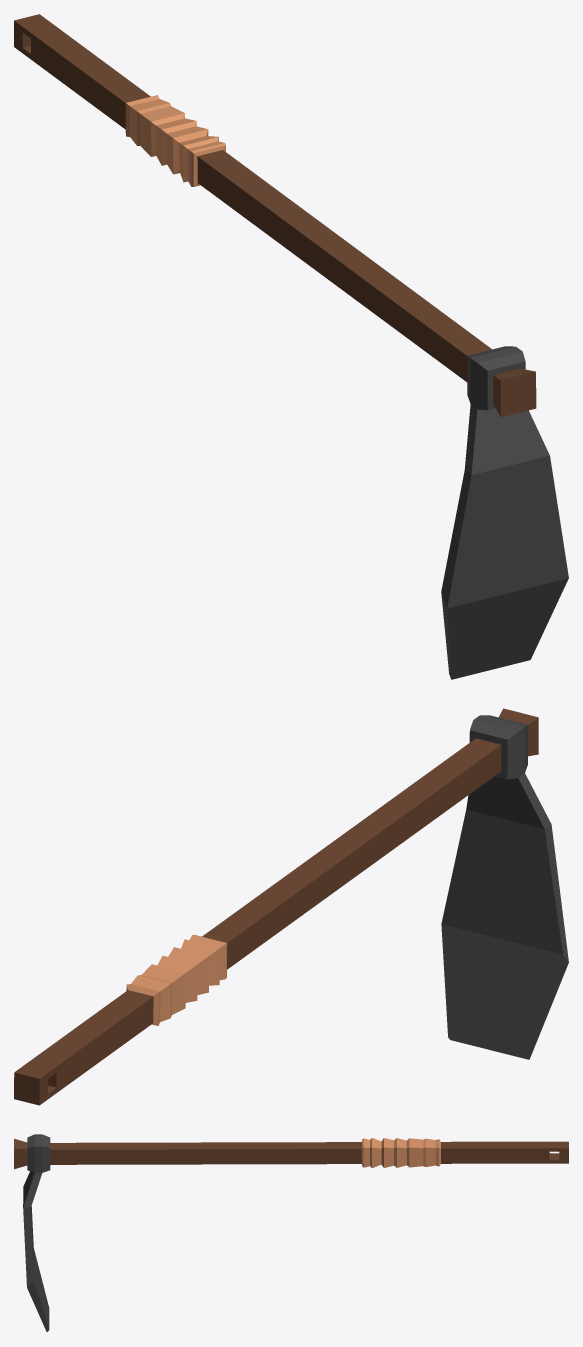
The model's file is Hoe.fbx.
The picture shows the model from 3 angles, top to bottom: view 1: azimuth 30°, elevation 25°; view 2: azimuth 150°, elevation 25°; view 3: azimuth 270°, elevation 25°; orthographic projection. The views are drawn at different scales.
Parts seen in each view (by area): view 1: Hoe; view 2: Hoe; view 3: Hoe.
Part boxes in pixels (x1,y1,x2,y2): Hoe: [14, 14, 568, 679]; Hoe: [14, 708, 568, 1105]; Hoe: [14, 1134, 568, 1331].
Size of the model in its own units: 13.02 by 32.87 by 91.28.
